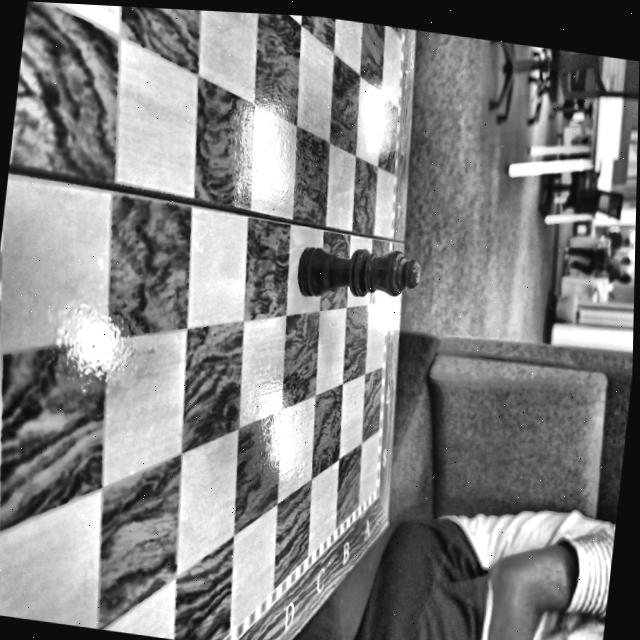black-queen: (297, 245, 420, 296)
